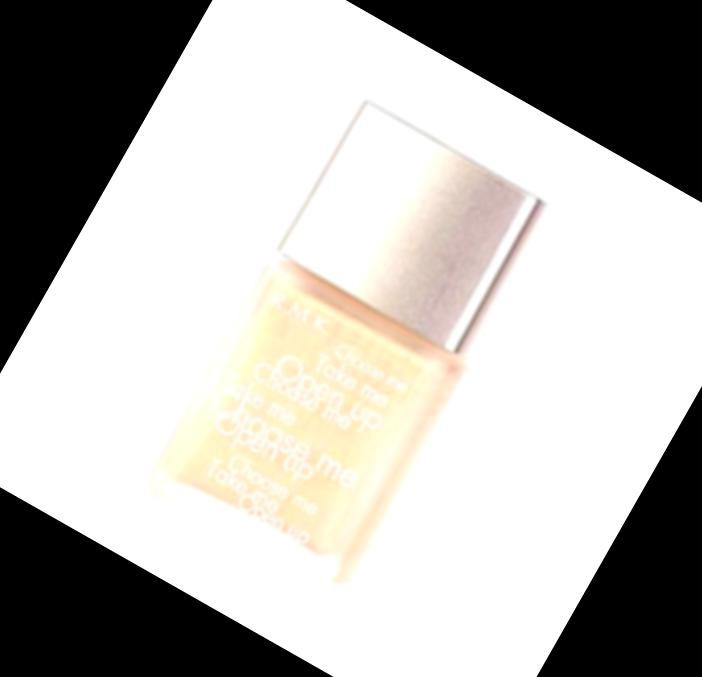cosmetic: (133, 92, 568, 607)
